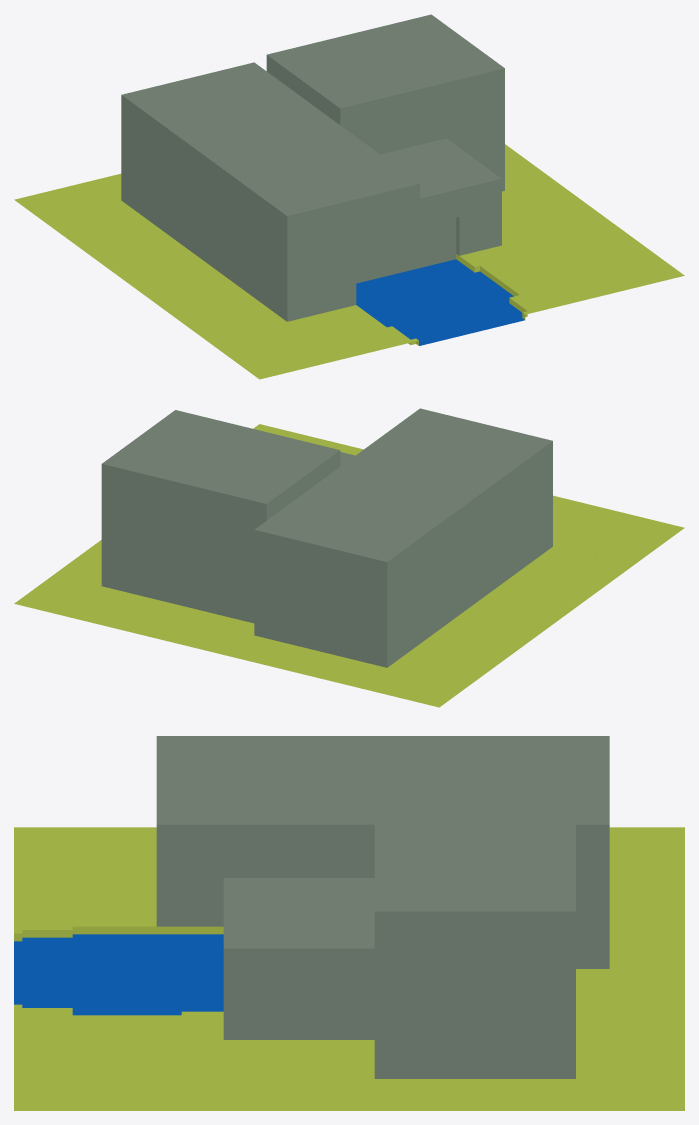
Rendered from MMMMR5(1).glb.
3 renders of one model, top to bottom at view 1: azimuth 30°, elevation 25°; view 2: azimuth 150°, elevation 25°; view 3: azimuth 270°, elevation 25°, orthographic. The views are drawn at different scales.
Parts seen in each view (by area): view 1: model_0.052; view 2: model_0.052; view 3: model_0.052.
Boxes of the visible parts, box(x1,y1,x2,y2) form: model_0.052: box(14, 14, 684, 379); model_0.052: box(14, 408, 684, 707); model_0.052: box(14, 736, 684, 1110).
Bounding box in the file's own units: 80 × 23 × 80.
1 material, 1 textured.
